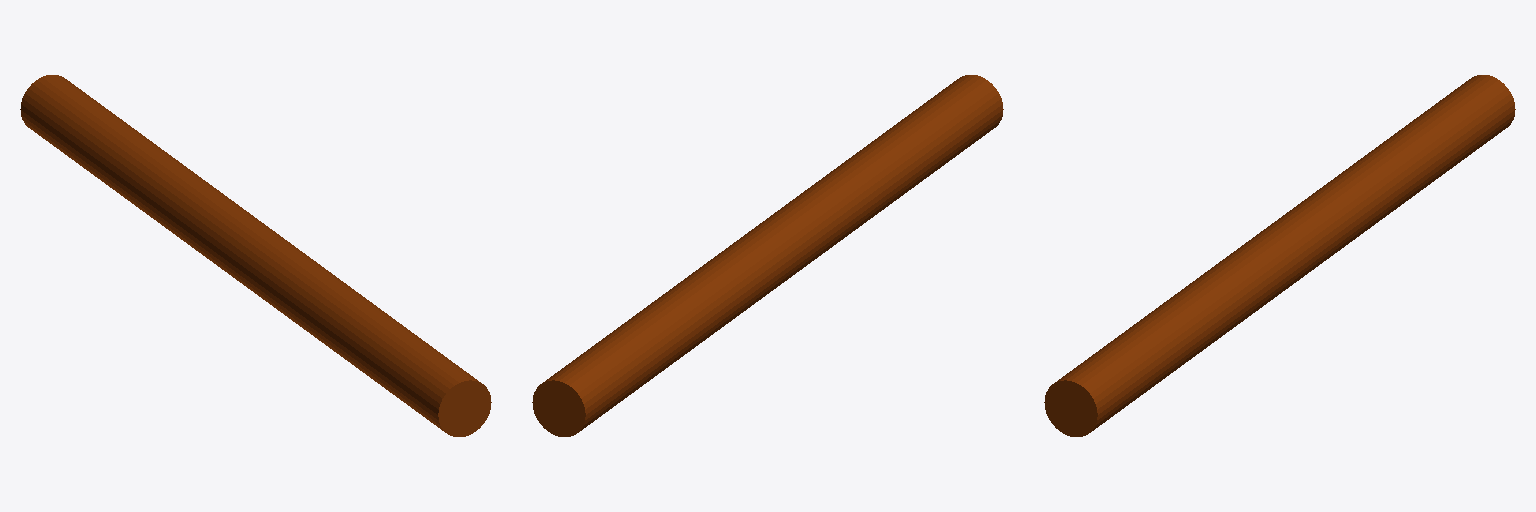
URDF robot description (cylinder):
<?xml version="1.0" ?>
<!-- =================================================================================== -->
<!-- |    This document was autogenerated by xacro from cylinder.xacro                 | -->
<!-- |    EDITING THIS FILE BY HAND IS NOT RECOMMENDED                                 | -->
<!-- =================================================================================== -->
<robot name="cylinder">
  <link name="world"/>
  <link name="base">
    <visual>
      <origin rpy="1.57079633 0 0" xyz="0 0 0"/>
      <geometry>
        <cylinder length="7.07106781185" radius="0.26"/>
      </geometry>
      <material name="cylinder_material">
        <color rgba="0.545 0.271 0.075 1.0"/>
        <texture filename="../textures/tree_bark.jpg"/>
      </material>
    </visual>
    <collision>
      <origin rpy="1.57079633 0 0" xyz="0 0 0"/>
      <geometry>
        <cylinder length="7.07106781185" radius="0.26"/>
      </geometry>
    </collision>
    <inertial>
      <origin rpy="0 0 0" xyz="0 0 0"/>
      <mass value="1"/>
      <inertia ixx="4.183566666648429" ixy="0.0" ixz="0.0" iyy="4.183566666648429" iyz="0.0" izz="24.999999999890573"/>
    </inertial>
  </link>
  <joint name="base_joint" type="fixed">
    <parent link="world"/>
    <child link="base"/>
    <origin rpy="0 0 0" xyz="0.0 0.0 0.0"/>
  </joint>
</robot>

--- Facts derived from the render (not from the file) ---
3 views of the same robot in one strip: view 1: azimuth 30°, elevation 25°; view 2: azimuth 150°, elevation 25°; view 3: azimuth 330°, elevation 25° (orthographic).
Robot: cylinder — 2 links, 1 joints (1 fixed); root link world; default pose: every joint at zero.
Links seen in each view (by area): view 1: base; view 2: base; view 3: base.
Boxes of the visible links, bbox=[...] form: base: bbox=[20, 75, 491, 436]; base: bbox=[532, 75, 1003, 436]; base: bbox=[1044, 75, 1515, 436].
Size in the robot's own frame: 0.52 by 7.07 by 0.52 metres.
Geometry: primitives only (box / cylinder / sphere), no mesh files.
